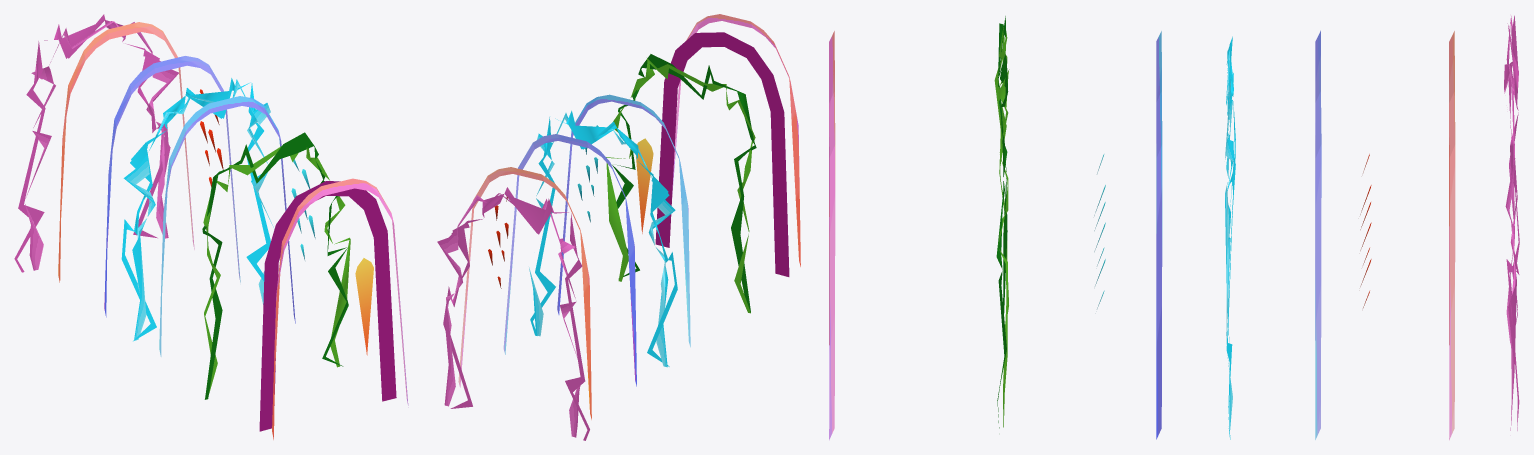
The model's file is tunel-002.gltf.
3 renders of one model, left to right at view 1: azimuth 30°, elevation 25°; view 2: azimuth 150°, elevation 25°; view 3: azimuth 270°, elevation 25°, orthographic. The views are drawn at different scales.
Visible parts, largest first — view 1: Tunel-Electrico-f.002; view 2: Tunel-Electrico-f.002; view 3: Tunel-Electrico-f.002.
Part boxes in pixels (box(x1,y1,x2,y2)): Tunel-Electrico-f.002: box(14, 14, 408, 439); Tunel-Electrico-f.002: box(437, 14, 800, 440); Tunel-Electrico-f.002: box(829, 15, 1519, 440).
Size of the model in its own units: 3.44 by 4.93 by 8.68.
1 material, 1 textured.
